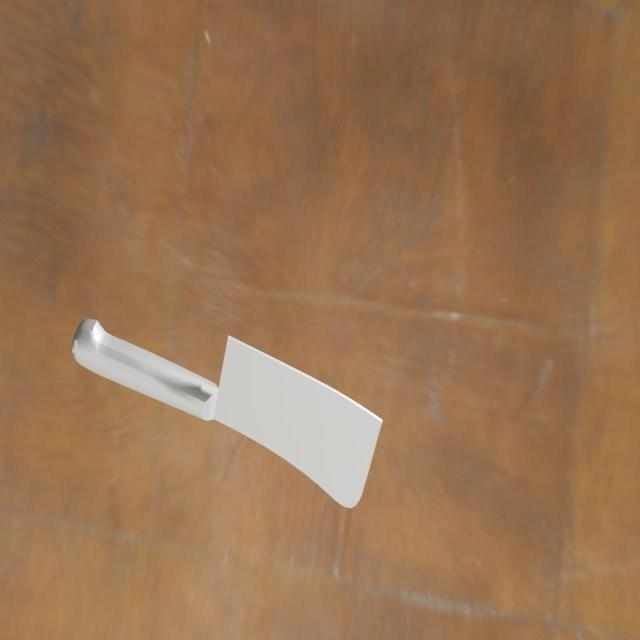knife: (62, 319, 216, 425)
